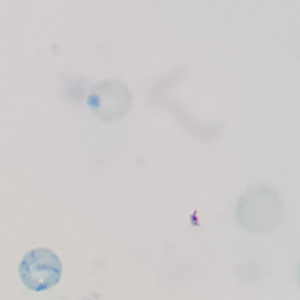aggregate reticulocyte: (17, 246, 64, 293)
erythrocyte: (233, 183, 287, 237), (85, 77, 134, 124)
